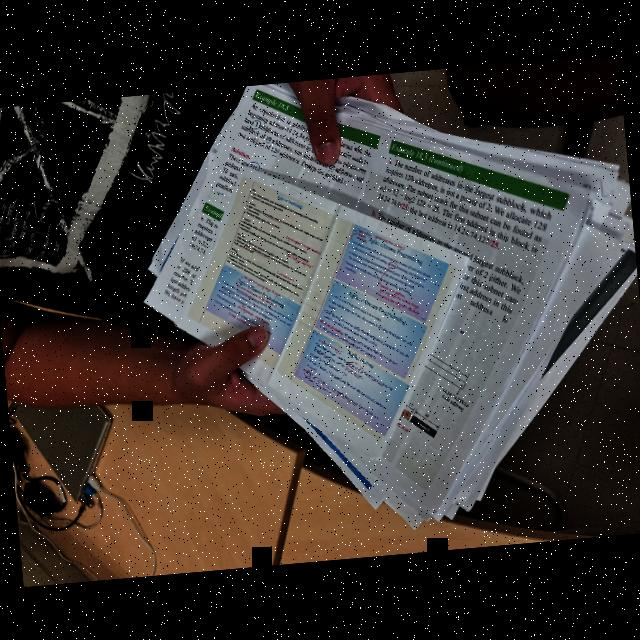reuseable_paper: (126, 53, 640, 553)
